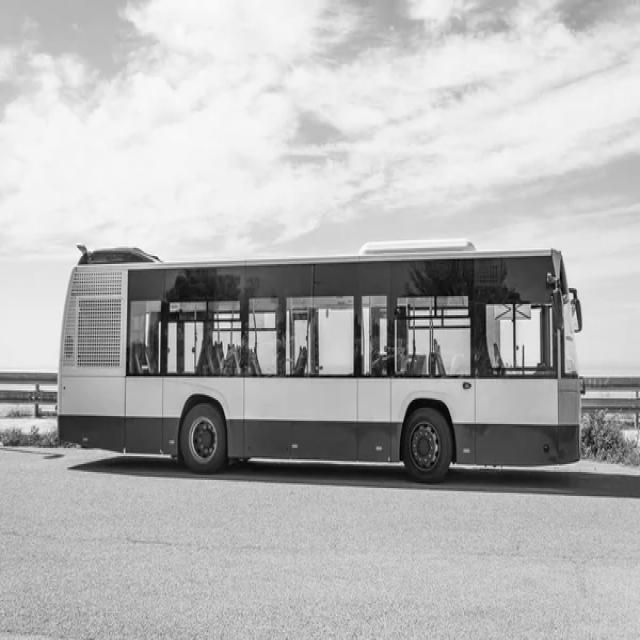Bus: (57, 245, 584, 482)
